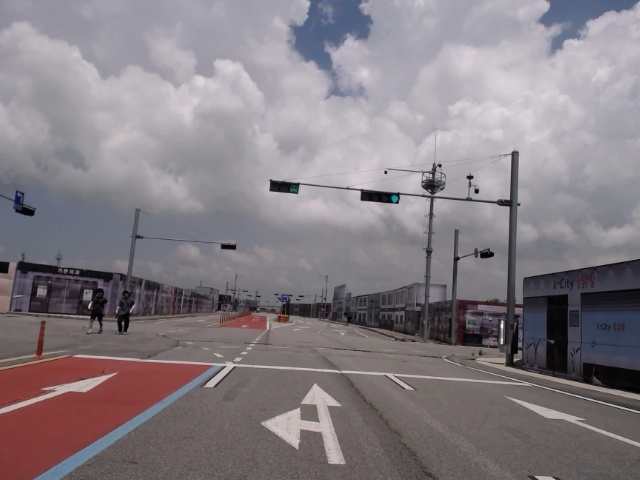straight_green_4: (362, 188, 402, 205)
